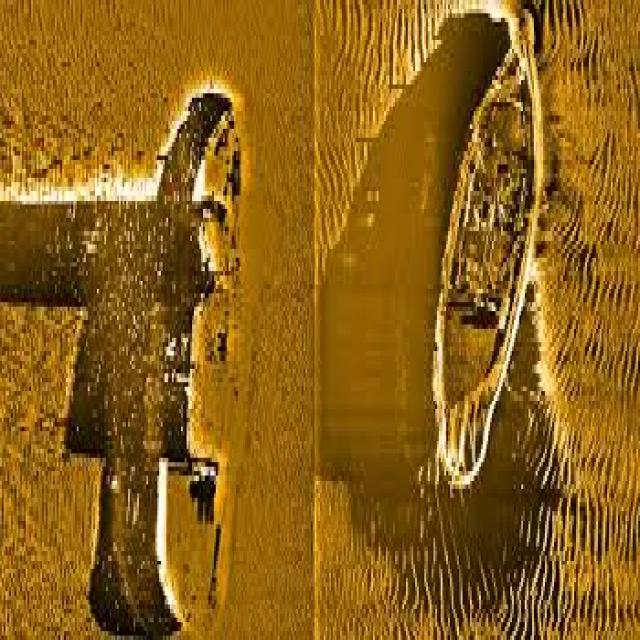ship: (424, 27, 527, 489), (154, 102, 232, 631)
